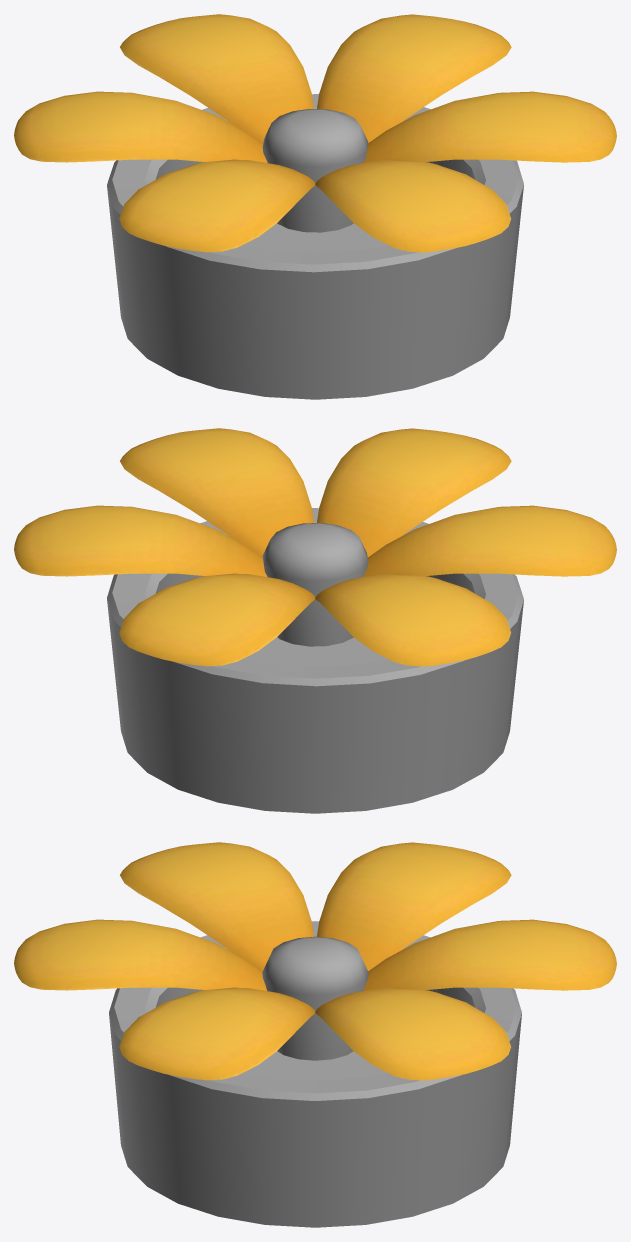
Rendered from Flower_Yellow.fbx.
3 views of the same model, one above another, from view 1: azimuth 30°, elevation 25°; view 2: azimuth 150°, elevation 25°; view 3: azimuth 270°, elevation 25° (orthographic).
Parts seen in each view (by area): view 1: Petal_01__3370_Petal_01_6, Flower_Pot_0, pCylinder1; view 2: Petal_01__3370_Petal_01_6, Flower_Pot_0, pCylinder1; view 3: Petal_01__3370_Petal_01_6, Flower_Pot_0, pCylinder1.
Part boxes in pixels (box(x1,y1,x2,y2)): Petal_01__3370_Petal_01_6: box(14, 14, 616, 252); Flower_Pot_0: box(107, 94, 523, 399); pCylinder1: box(262, 109, 368, 232); Petal_01__3370_Petal_01_6: box(14, 428, 616, 666); Flower_Pot_0: box(107, 508, 523, 813); pCylinder1: box(262, 523, 368, 646); Petal_01__3370_Petal_01_6: box(14, 842, 616, 1080); Flower_Pot_0: box(109, 921, 521, 1227); pCylinder1: box(262, 936, 368, 1060).
Size of the model in its own units: 14.47 by 15.73 by 5.94.
